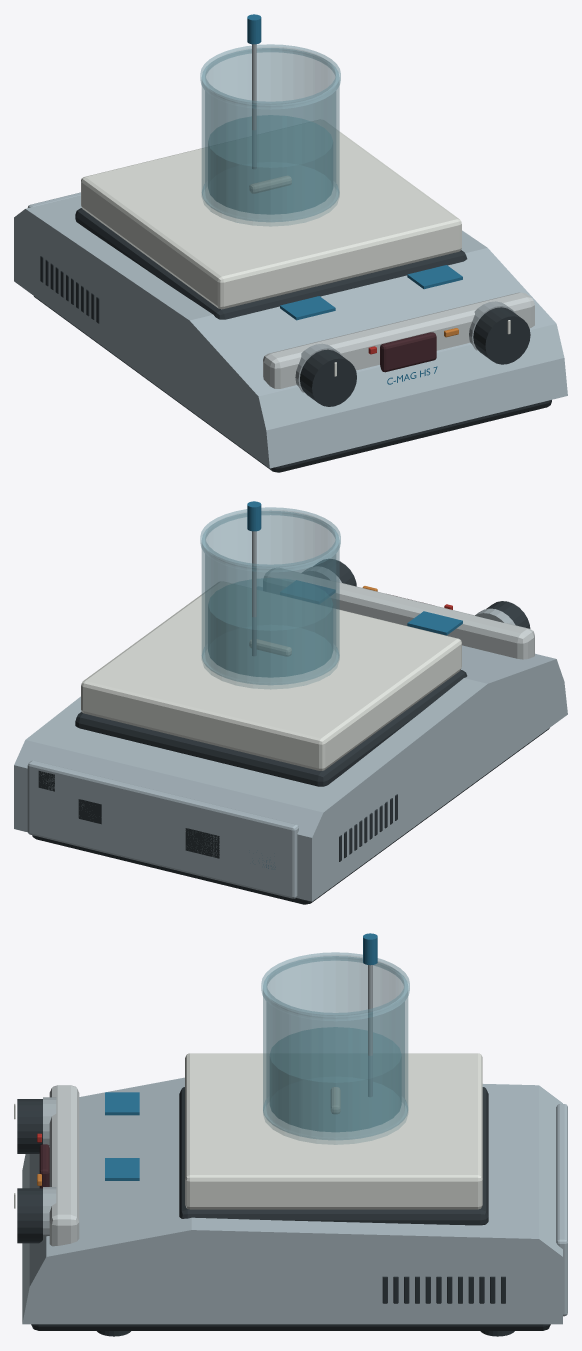
The model's file is ika-hs7.glb.
3 views of the same model, one above another, from view 1: azimuth 30°, elevation 25°; view 2: azimuth 150°, elevation 25°; view 3: azimuth 270°, elevation 25° (orthographic). The views are drawn at different scales.
Visible parts, largest first — view 1: device_body Pale blue-gray molded case, ceramic_plate, inert_vessel Virtual vessel wall, Inert synthetic phantom visual charge, device_body Dark base and vents, Elevated front controls, 33.3 mm operating knob.001, 33.3 mm operating knob, device_body IKA-like blue detail, display_window, Generic inert probe shaft; view 2: device_body Pale blue-gray molded case, ceramic_plate, inert_vessel Virtual vessel wall, Inert synthetic phantom visual charge, device_body Dark base and vents, Elevated front controls, device_body IKA-like blue detail, Generic inert probe shaft, 33.3 mm operating knob, 33.3 mm operating knob.001; view 3: device_body Pale blue-gray molded case, ceramic_plate, inert_vessel Virtual vessel wall, Inert synthetic phantom visual charge, device_body Dark base and vents, Elevated front controls, device_body IKA-like blue detail, 33.3 mm operating knob.001, 33.3 mm operating knob, Generic inert probe shaft.
Part boxes in pixels (x1,y1,x2,y2): device_body Pale blue-gray molded case: (14,192,567,468); ceramic_plate: (81,119,461,309); inert_vessel Virtual vessel wall: (200,44,340,226); Inert synthetic phantom visual charge: (208,115,332,214); device_body Dark base and vents: (34,208,551,472); Elevated front controls: (263,292,534,388); 33.3 mm operating knob.001: (473,307,530,364); 33.3 mm operating knob: (300,349,356,406); device_body IKA-like blue detail: (280,265,462,384); display_window: (380,332,436,372); Generic inert probe shaft: (252,44,256,168); device_body Pale blue-gray molded case: (14,587,567,901); ceramic_plate: (81,581,461,770); inert_vessel Virtual vessel wall: (200,507,340,689); Inert synthetic phantom visual charge: (208,578,332,677); device_body Dark base and vents: (32,670,549,904); Elevated front controls: (263,568,534,659); device_body IKA-like blue detail: (280,580,462,635); Generic inert probe shaft: (252,531,256,655); 33.3 mm operating knob: (486,601,530,628); 33.3 mm operating knob.001: (313,559,356,586); device_body Pale blue-gray molded case: (22,1077,567,1324); ceramic_plate: (185,1053,482,1209); inert_vessel Virtual vessel wall: (261,952,409,1144); Inert synthetic phantom visual charge: (270,1027,401,1131); device_body Dark base and vents: (31,1087,550,1336); Elevated front controls: (49,1085,79,1246); device_body IKA-like blue detail: (105,1092,139,1180); 33.3 mm operating knob.001: (17,1188,42,1243); 33.3 mm operating knob: (17,1099,42,1153); Generic inert probe shaft: (368,965,372,1096).
Size of the model in its own units: 0.2212 by 0.2235 by 0.335.
